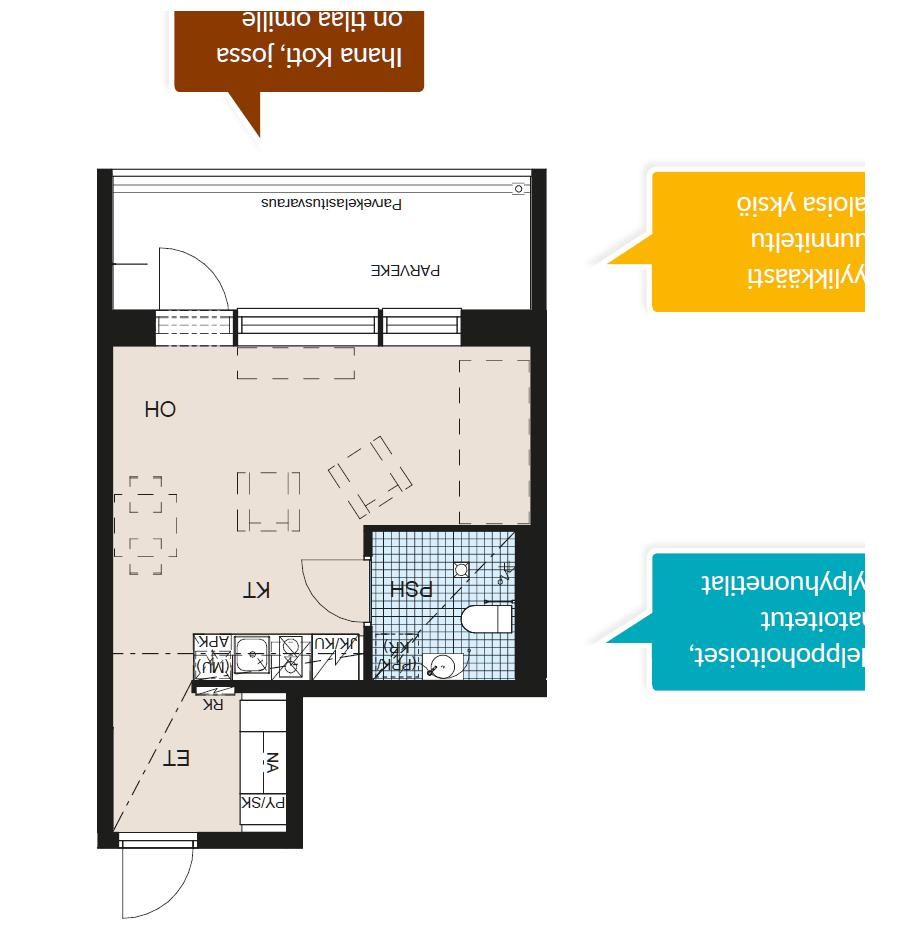bathroom: (371, 529, 514, 682)
door: (116, 828, 197, 923), (151, 243, 237, 324), (298, 554, 382, 626)
perimeter: (94, 308, 547, 843)
window: (233, 302, 383, 351), (379, 305, 469, 352)
